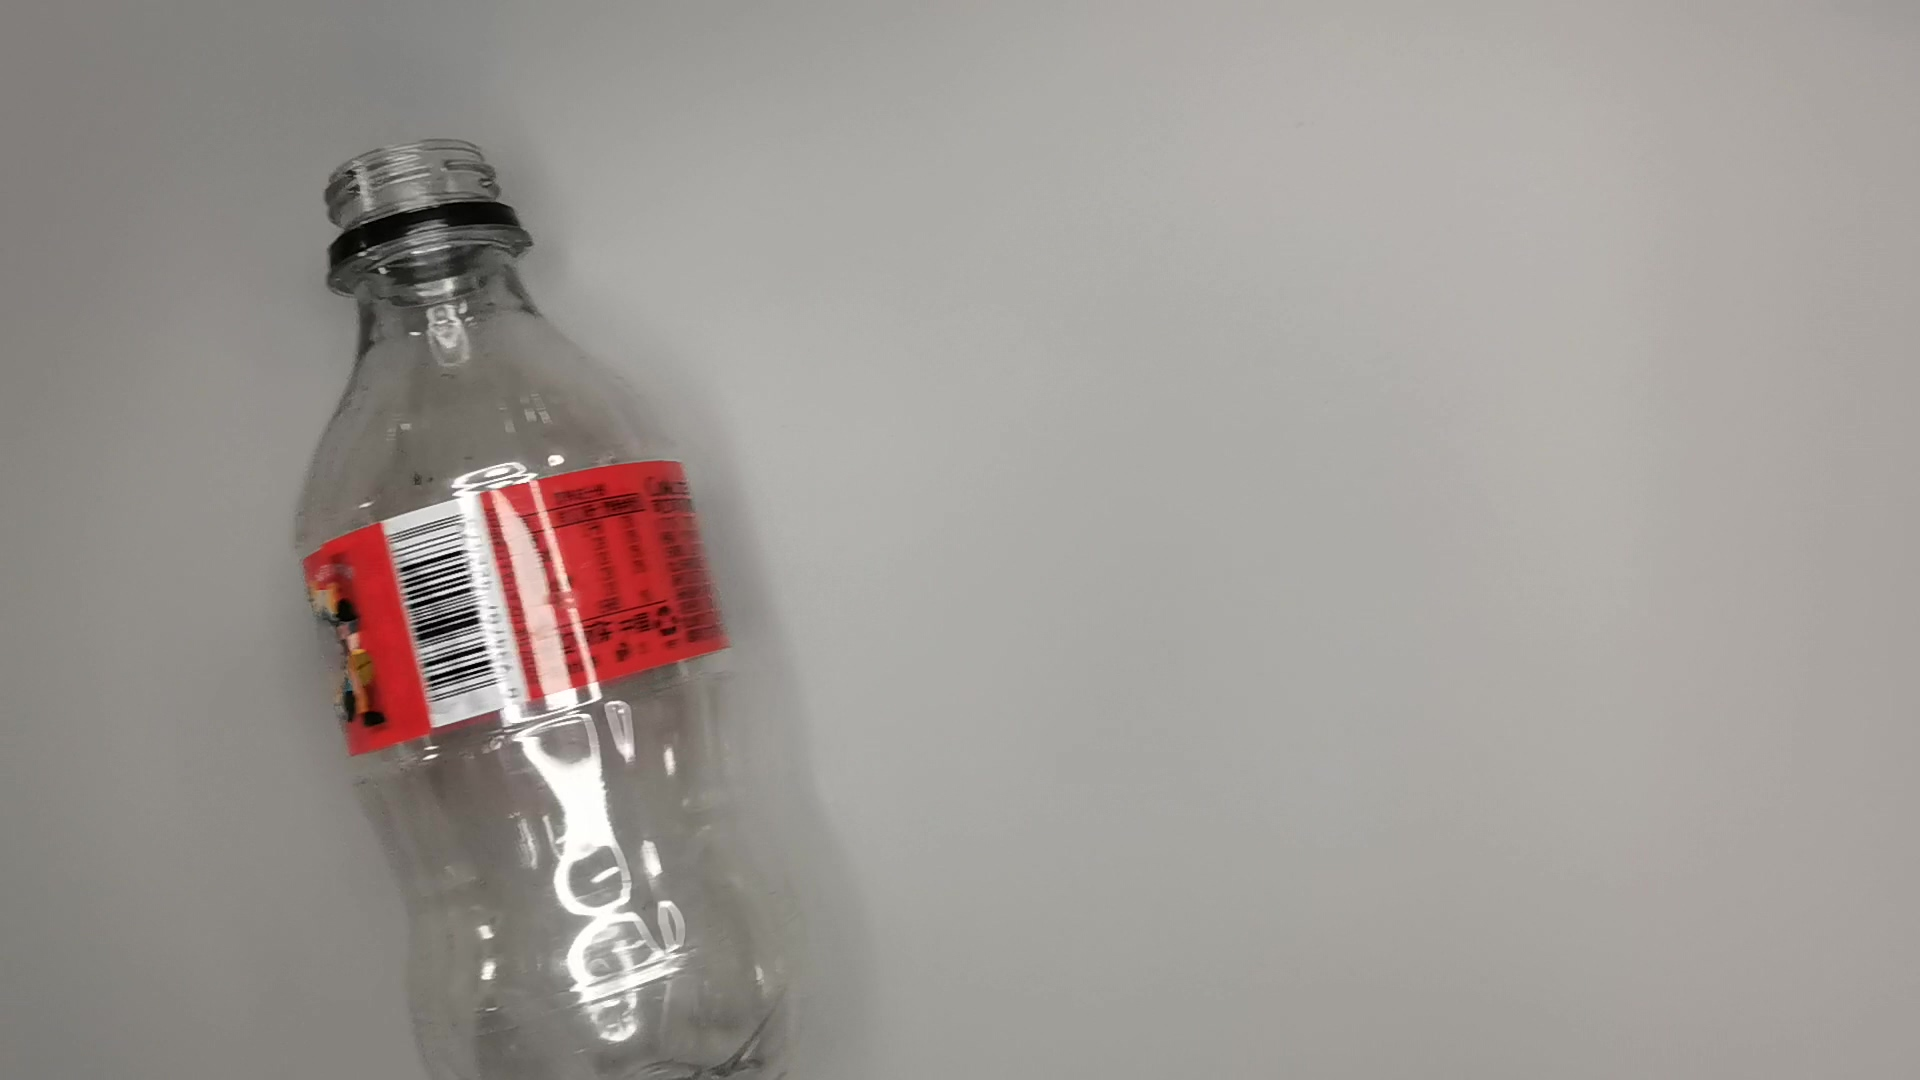bottle: (284, 135, 793, 1080)
